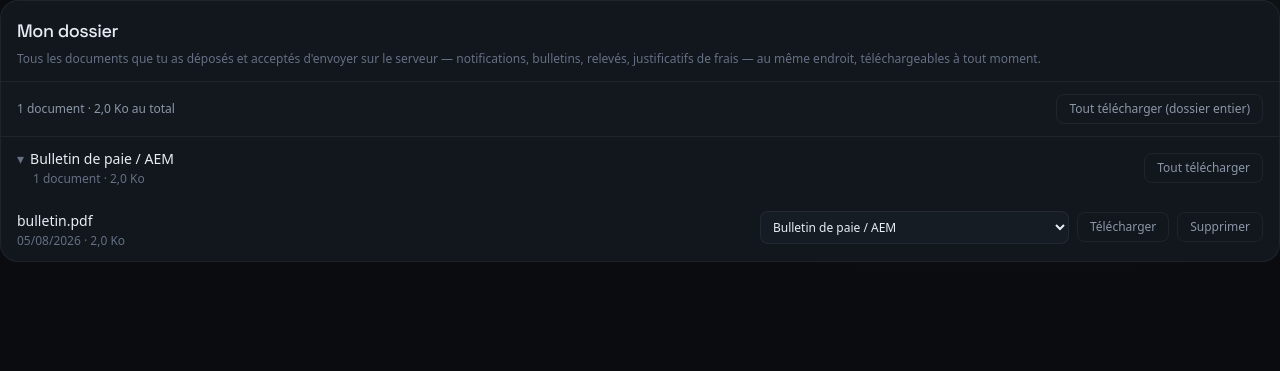
Test case: MonDossier — supprimer un document (07/08/2026) › confirmer supprime la LIGNE puis le FICHIER, et retire le document de l'écran
The image size is (1280, 371).
Click the button with aria-label "supprimer « bulletin.pdf »": {"x": 1220, "y": 227} [1177,212,1263,242]
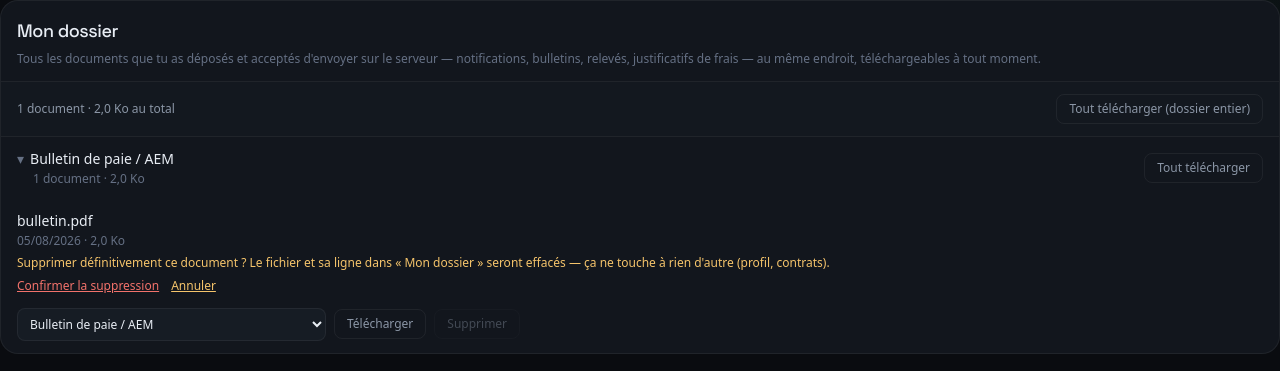
Click the button "Confirmer la suppression": {"x": 88, "y": 286} [17,276,159,296]
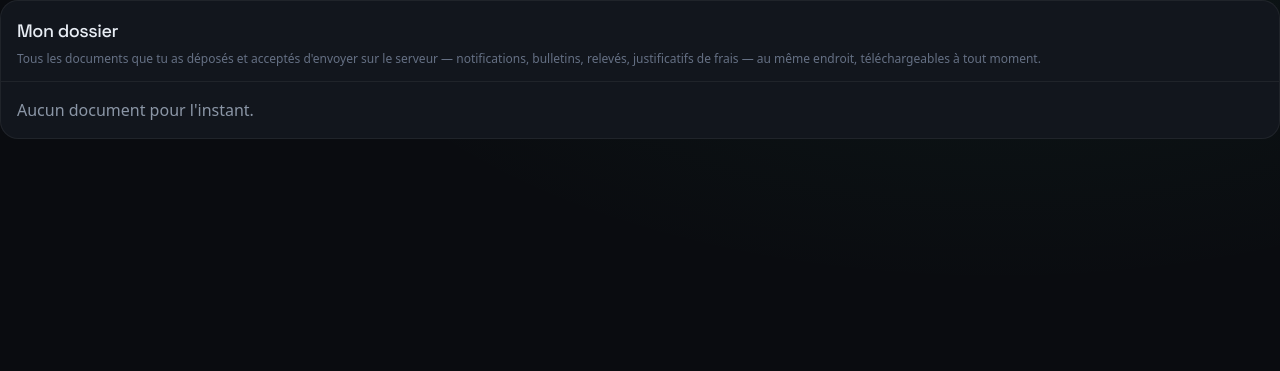
Result: the text "bulletin.pdf" is gone
Result: the text "Aucun document pour l'instant." is shown at [17,98,254,120]
